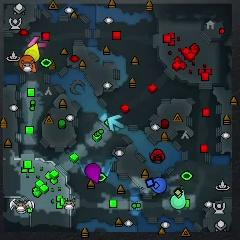p1: (148, 177, 166, 193)
p2: (170, 190, 186, 209)
p3: (85, 162, 101, 184)
p4: (24, 44, 40, 61)
p5: (19, 55, 36, 72)
x1: (28, 36, 47, 48)
x3: (108, 114, 124, 131)
